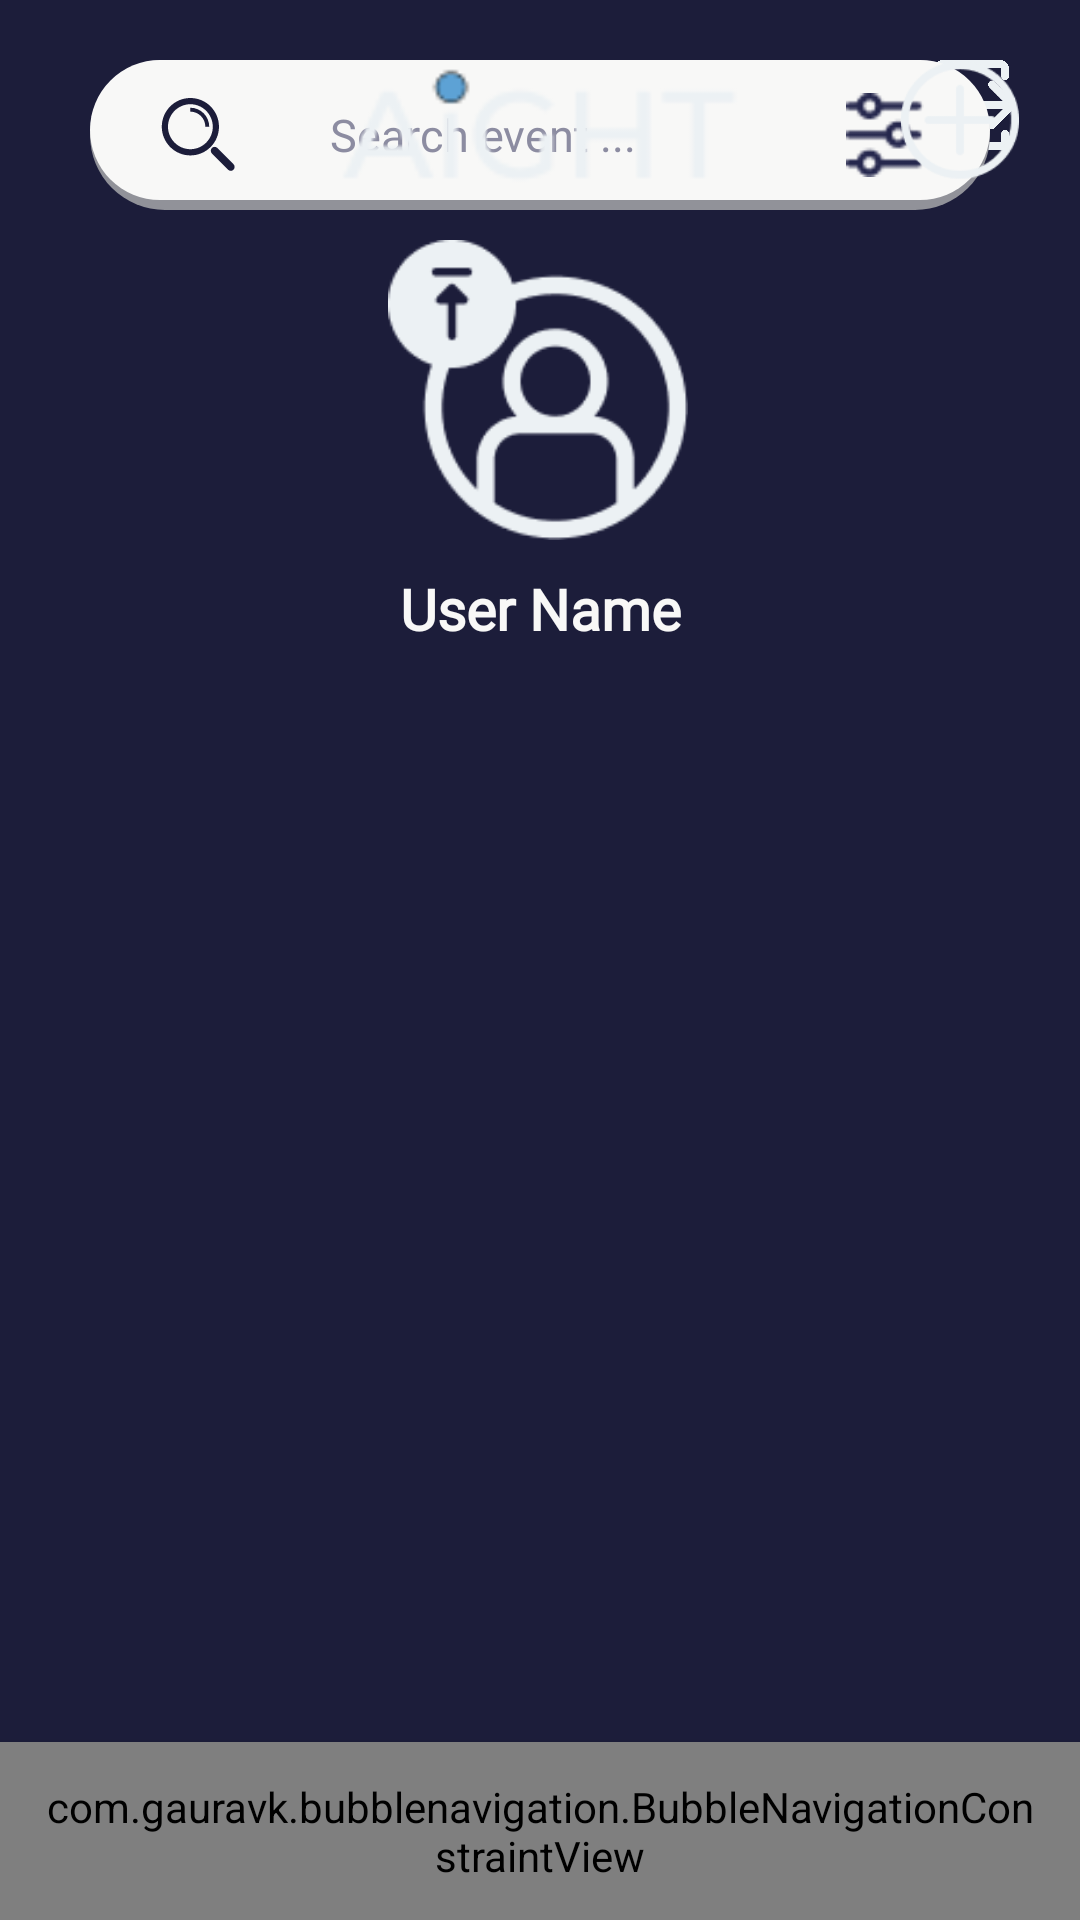

Icon bounding boxes for this 1080px x 1920px phone screenshot, format (x1, y1, x2, y2):
filters: (846, 93, 922, 177)
photo: (388, 240, 688, 540)
